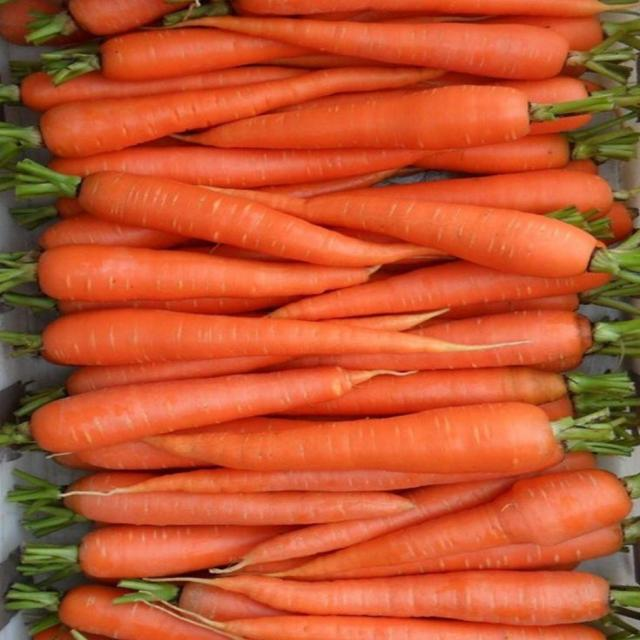carrot: (21, 160, 422, 266), (283, 469, 636, 578), (40, 68, 440, 157), (241, 191, 633, 277), (148, 403, 574, 474), (31, 368, 375, 452), (230, 475, 521, 572), (52, 135, 570, 188), (289, 194, 615, 277), (24, 309, 501, 365), (197, 17, 569, 79), (189, 85, 529, 152), (213, 571, 614, 625), (285, 311, 638, 371), (273, 261, 609, 319), (34, 245, 371, 302), (64, 473, 413, 525), (291, 311, 594, 370), (331, 520, 637, 578), (21, 526, 287, 578), (290, 367, 566, 415), (20, 66, 305, 111), (343, 170, 613, 214), (277, 74, 589, 112), (86, 29, 309, 81), (415, 130, 635, 174), (216, 616, 605, 639), (59, 586, 226, 639), (67, 356, 289, 395), (67, 356, 288, 395), (113, 468, 433, 493), (27, 0, 188, 44), (414, 134, 571, 174), (39, 215, 185, 249), (341, 0, 614, 17), (55, 441, 213, 470), (430, 294, 580, 324), (55, 441, 210, 470), (54, 441, 205, 470), (483, 15, 604, 50), (57, 297, 296, 314), (179, 583, 285, 621), (263, 170, 398, 197), (0, 0, 60, 45), (498, 76, 589, 103), (10, 198, 87, 229), (263, 53, 394, 69), (594, 202, 637, 243), (246, 556, 317, 575), (539, 395, 574, 421), (55, 197, 87, 218), (34, 626, 77, 639), (565, 159, 598, 175)
